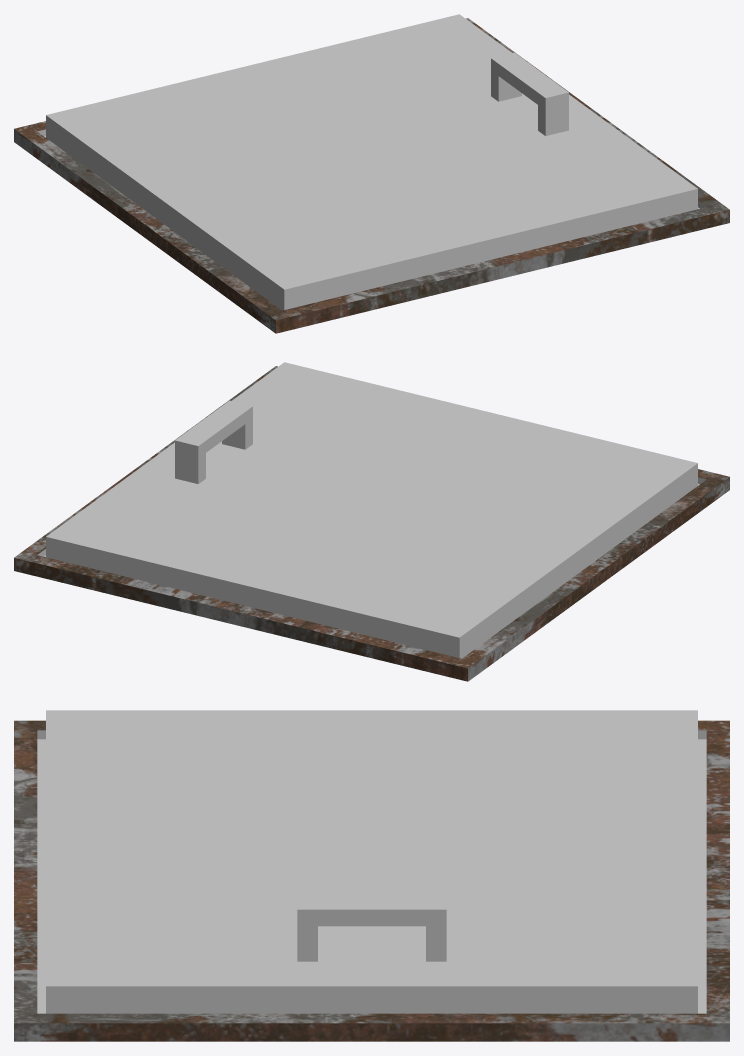
File: Component_Hatch_grp.fbx
The picture shows the model from 3 angles, top to bottom: view 1: azimuth 30°, elevation 25°; view 2: azimuth 150°, elevation 25°; view 3: azimuth 270°, elevation 25°; orthographic projection. The views are drawn at different scales.
Visible parts, largest first — view 1: hatch_metalRust, hatch_metalA; view 2: hatch_metalRust, hatch_metalA; view 3: hatch_metalRust, hatch_metalA.
Boxes of the visible parts, left/top/right/bottom form: hatch_metalRust: left=37, top=14, right=706, bottom=310; hatch_metalA: left=14, top=18, right=729, bottom=333; hatch_metalRust: left=37, top=362, right=706, bottom=658; hatch_metalA: left=14, top=366, right=729, bottom=681; hatch_metalRust: left=37, top=710, right=706, bottom=1013; hatch_metalA: left=14, top=720, right=729, bottom=1041.
Size of the model in its own units: 164 by 23.67 by 164.
